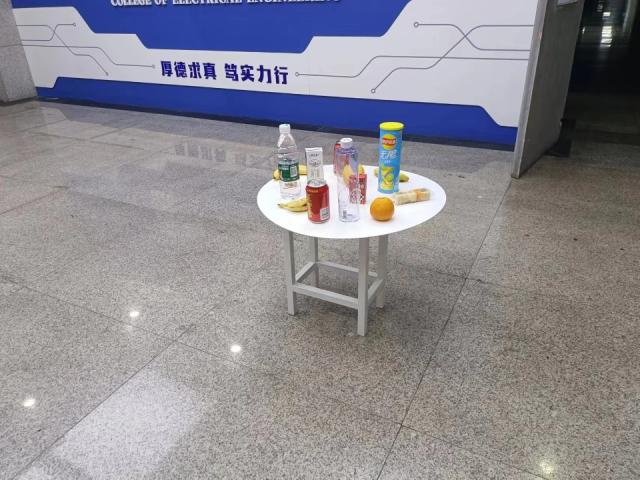Canned_drinks: (305, 178, 331, 224), (335, 140, 347, 174)
bottle: (334, 138, 362, 224), (276, 123, 302, 198)
cylinder: (376, 121, 404, 195)
drink_box: (306, 147, 324, 184), (350, 173, 367, 204)
